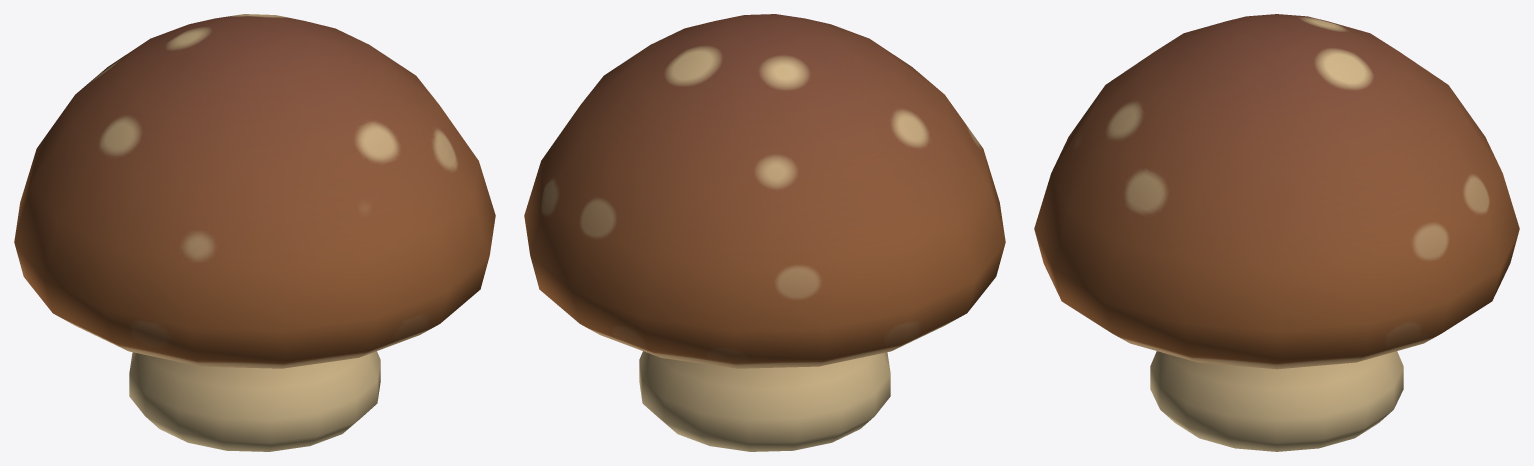
The model's file is mushroom.glb.
3 renders of one model, left to right at view 1: azimuth 30°, elevation 25°; view 2: azimuth 150°, elevation 25°; view 3: azimuth 270°, elevation 25°, orthographic.
Visible parts, largest first — view 1: Mushroom; view 2: Mushroom; view 3: Mushroom.
Boxes of the visible parts, <box> form: Mushroom: <box>14,14,495,451</box>; Mushroom: <box>524,14,1005,451</box>; Mushroom: <box>1034,14,1519,451</box>.
Bounding box in the file's own units: 1.83 × 1.61 × 1.83.
Materials: 1 (1 with a texture image).
